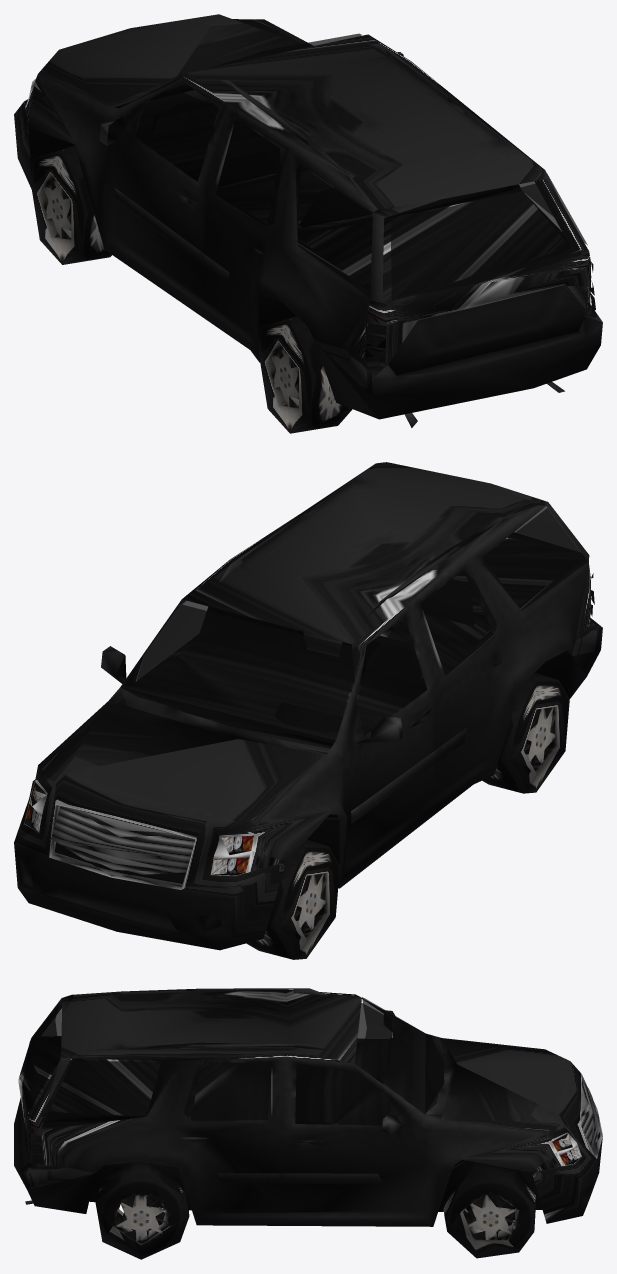
Rendered from c_suv_lo.glb.
3 views of the same model, one above another, from view 1: azimuth 30°, elevation 25°; view 2: azimuth 150°, elevation 25°; view 3: azimuth 270°, elevation 25° (orthographic). The views are drawn at different scales.
Parts seen in each view (by area): view 1: body|Body_7, body|glass, body|Wheel_6; view 2: body|Body_7, body|glass, body|Wheel_6, body|Optics_7; view 3: body|Body_7, body|glass, body|Wheel_6, body|Optics_7.
Part boxes in pixels (left/top/right/bottom): body|Body_7: left=14, top=14, right=602, bottom=427; body|glass: left=123, top=33, right=587, bottom=300; body|Wheel_6: left=31, top=145, right=352, bottom=433; body|Body_7: left=14, top=462, right=602, bottom=950; body|glass: left=120, top=506, right=587, bottom=740; body|Wheel_6: left=246, top=672, right=569, bottom=959; body|Optics_7: left=26, top=573, right=594, bottom=874; body|Body_7: left=14, top=988, right=602, bottom=1241; body|glass: left=22, top=997, right=444, bottom=1125; body|Wheel_6: left=95, top=1161, right=536, bottom=1259; body|Optics_7: left=29, top=1128, right=581, bottom=1165.
Size of the model in its own units: 2.07 by 1.71 by 4.6.
4 materials, 3 textured.
